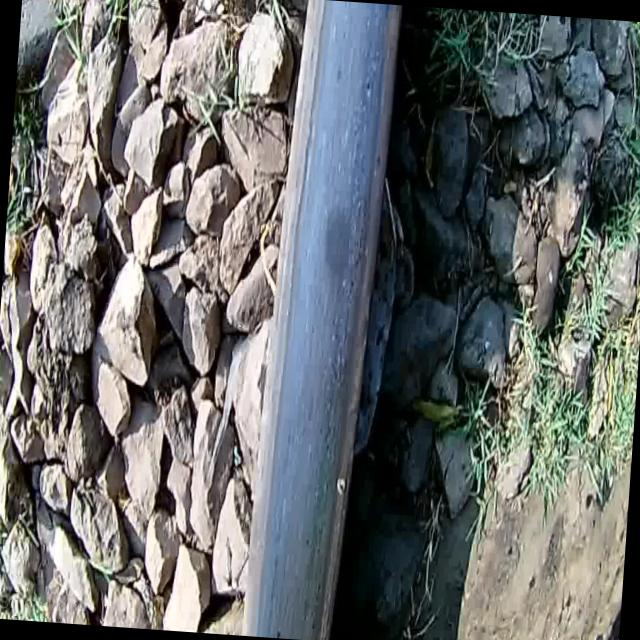Squats: (222, 0, 423, 640)
